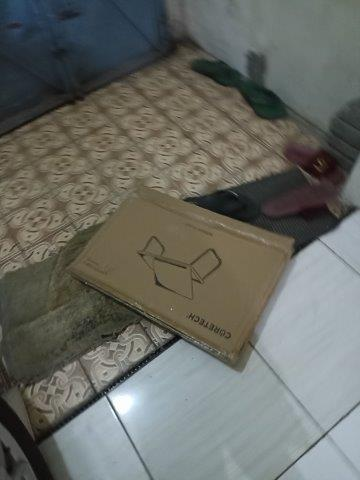kardus: (73, 190, 293, 362)
